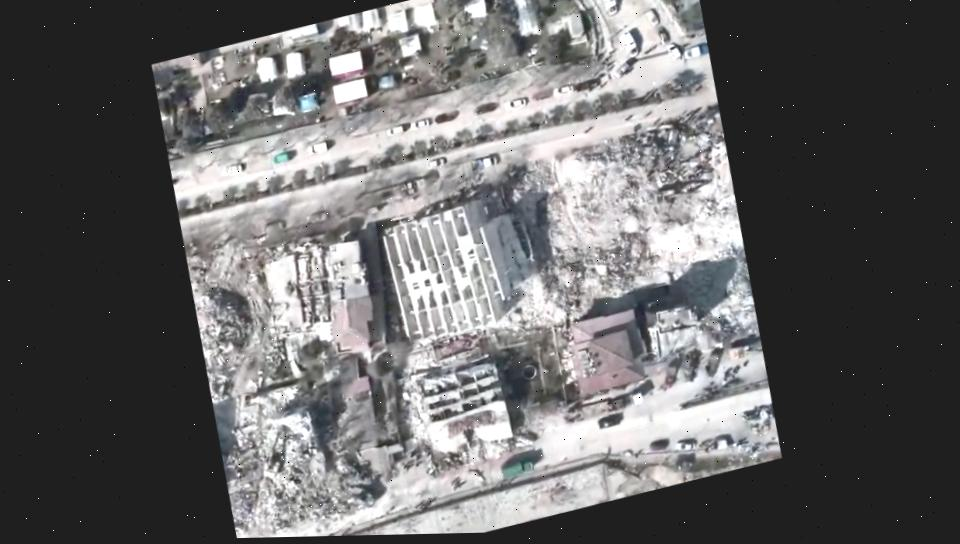kapali: (231, 467, 408, 538)
